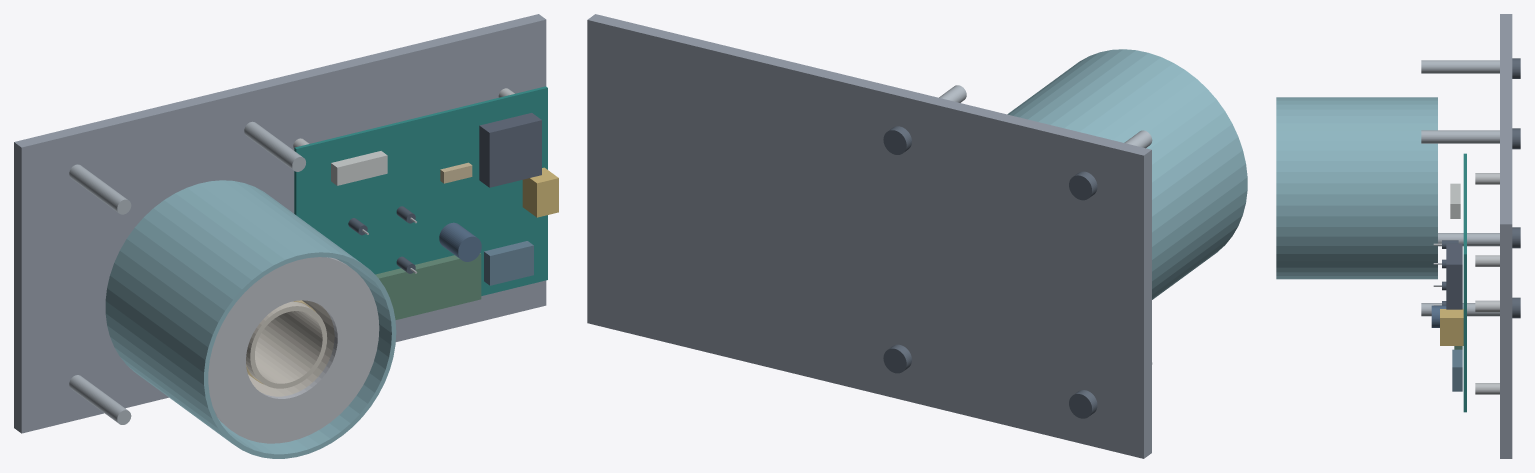
File: Physical_Coils_Concept.glb
3 renders of one model, left to right at view 1: azimuth 30°, elevation 25°; view 2: azimuth 150°, elevation 25°; view 3: azimuth 270°, elevation 25°, orthographic. The views are drawn at different scales.
Parts seen in each view (by area): view 1: BASE_6061_plate_240x125x6, VACUUM_FREE_POLYCARBONATE_GUARD, PCB_FR4_135x85x1p6, SPACER_RING_29, SECONDARY_PEEK_BOBBIN, MCU_RP2040_CONTROLLER, HBRIDGE_DRV8876_CONTROLLER, INA226_MONITOR, DC_IN_XT30, RDRIVE_3p3_OHM, PRIMARY_PEEK_WINDING_BOBBIN, GUARD_STANDOFF_1 (+3 smaller); view 2: BASE_6061_plate_240x125x6, VACUUM_FREE_POLYCARBONATE_GUARD; view 3: VACUUM_FREE_POLYCARBONATE_GUARD, BASE_6061_plate_240x125x6, HBRIDGE_DRV8876_CONTROLLER, GUARD_STANDOFF_1, GUARD_STANDOFF_3, PCB_FR4_135x85x1p6, DC_IN_XT30, GUARD_STANDOFF_0, INA226_MONITOR, GUARD_STANDOFF_2, RDRIVE_3p3_OHM, PCB_STANDOFF_0 (+3 smaller).
Boxes of the visible parts, x1,y1,x2,y2 form: BASE_6061_plate_240x125x6: [14, 14, 546, 433]; VACUUM_FREE_POLYCARBONATE_GUARD: [105, 180, 396, 458]; PCB_FR4_135x85x1p6: [294, 86, 547, 295]; SPACER_RING_29: [208, 257, 379, 443]; SECONDARY_PEEK_BOBBIN: [246, 301, 327, 388]; MCU_RP2040_CONTROLLER: [375, 253, 481, 319]; HBRIDGE_DRV8876_CONTROLLER: [479, 113, 541, 187]; INA226_MONITOR: [484, 241, 533, 285]; DC_IN_XT30: [522, 167, 558, 217]; RDRIVE_3p3_OHM: [331, 151, 387, 185]; PRIMARY_PEEK_WINDING_BOBBIN: [248, 300, 334, 396]; GUARD_STANDOFF_1: [69, 164, 131, 214]; BASE_6061_plate_240x125x6: [587, 14, 1151, 458]; VACUUM_FREE_POLYCARBONATE_GUARD: [1007, 49, 1247, 299]; VACUUM_FREE_POLYCARBONATE_GUARD: [1276, 97, 1437, 279]; BASE_6061_plate_240x125x6: [1500, 14, 1512, 458]; HBRIDGE_DRV8876_CONTROLLER: [1446, 243, 1462, 309]; GUARD_STANDOFF_1: [1421, 60, 1499, 73]; GUARD_STANDOFF_3: [1421, 130, 1499, 143]; PCB_FR4_135x85x1p6: [1463, 153, 1466, 412]; DC_IN_XT30: [1440, 309, 1463, 345]; GUARD_STANDOFF_0: [1438, 233, 1499, 246]; INA226_MONITOR: [1452, 349, 1462, 391]; GUARD_STANDOFF_2: [1421, 303, 1499, 316]; RDRIVE_3p3_OHM: [1450, 183, 1460, 218]; PCB_STANDOFF_0: [1475, 300, 1499, 312].
Bounding box in the file's own units: 240 × 125 × 118.
